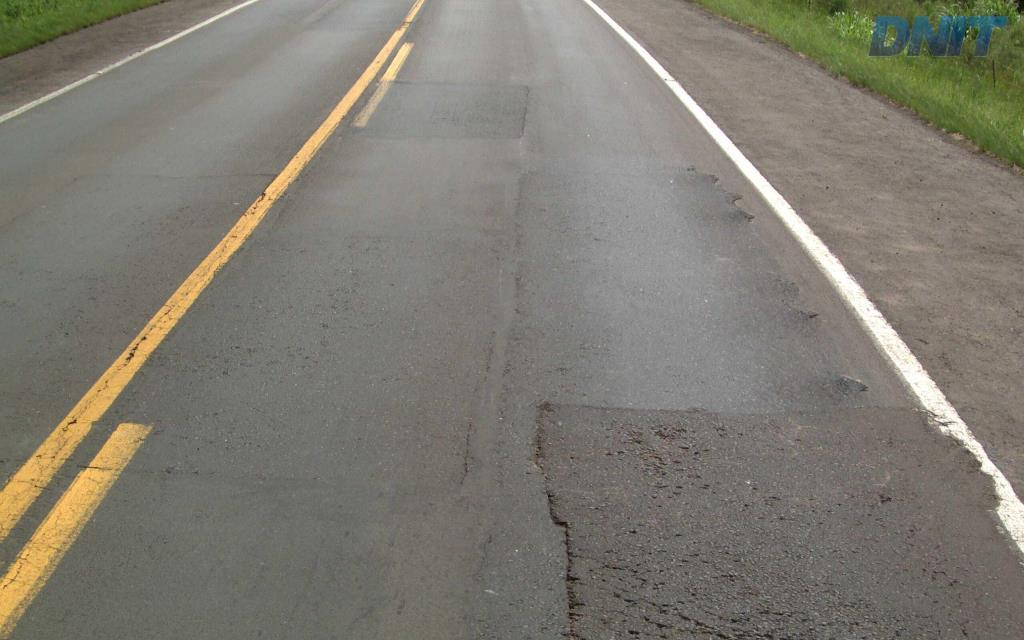crack: (541, 486, 688, 613), (683, 546, 806, 613), (625, 441, 668, 493), (531, 401, 555, 470)
